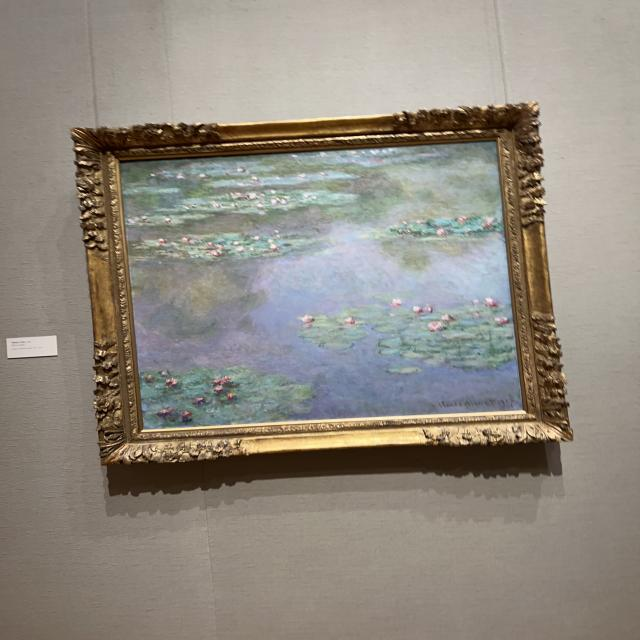lilies: (121, 144, 521, 429)
